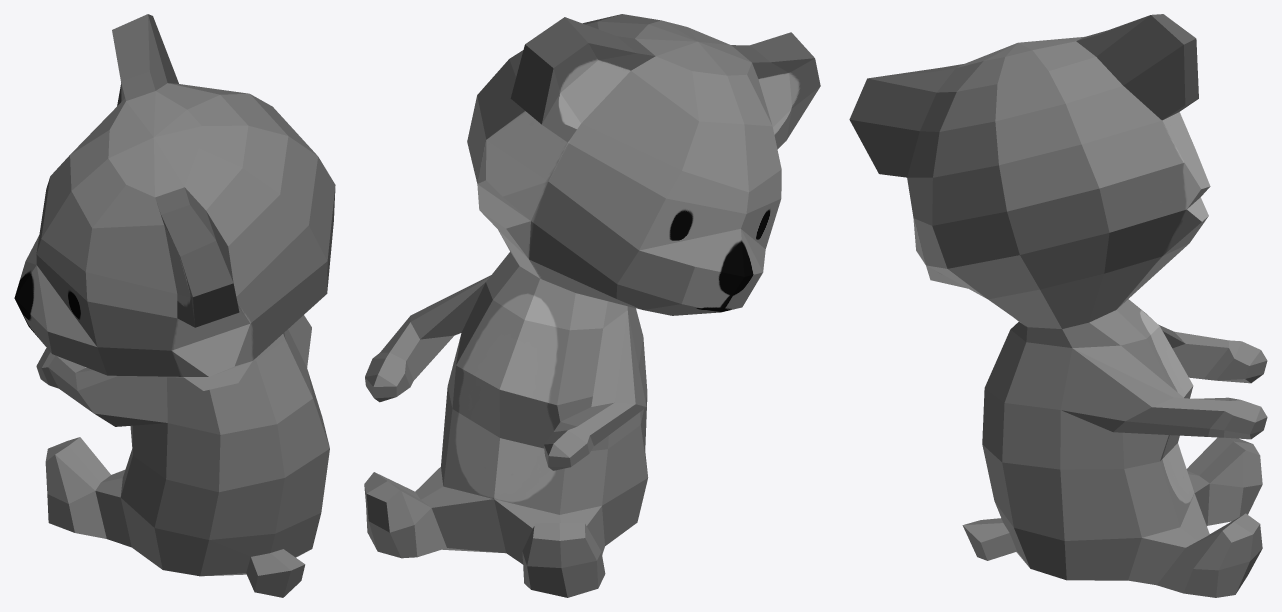
The model's file is koala.fbx.
3 views of the same model, side by side, from view 1: azimuth 30°, elevation 25°; view 2: azimuth 150°, elevation 25°; view 3: azimuth 270°, elevation 25° (orthographic). The views are drawn at different scales.
Parts seen in each view (by area): view 1: Cylinder; view 2: Cylinder; view 3: Cylinder.
Part boxes in pixels (<box>): Cylinder: <box>14,14,335,597</box>; Cylinder: <box>364,14,820,597</box>; Cylinder: <box>849,14,1267,597</box>.
Size of the model in its own units: 44.52 by 71.97 by 52.44.
